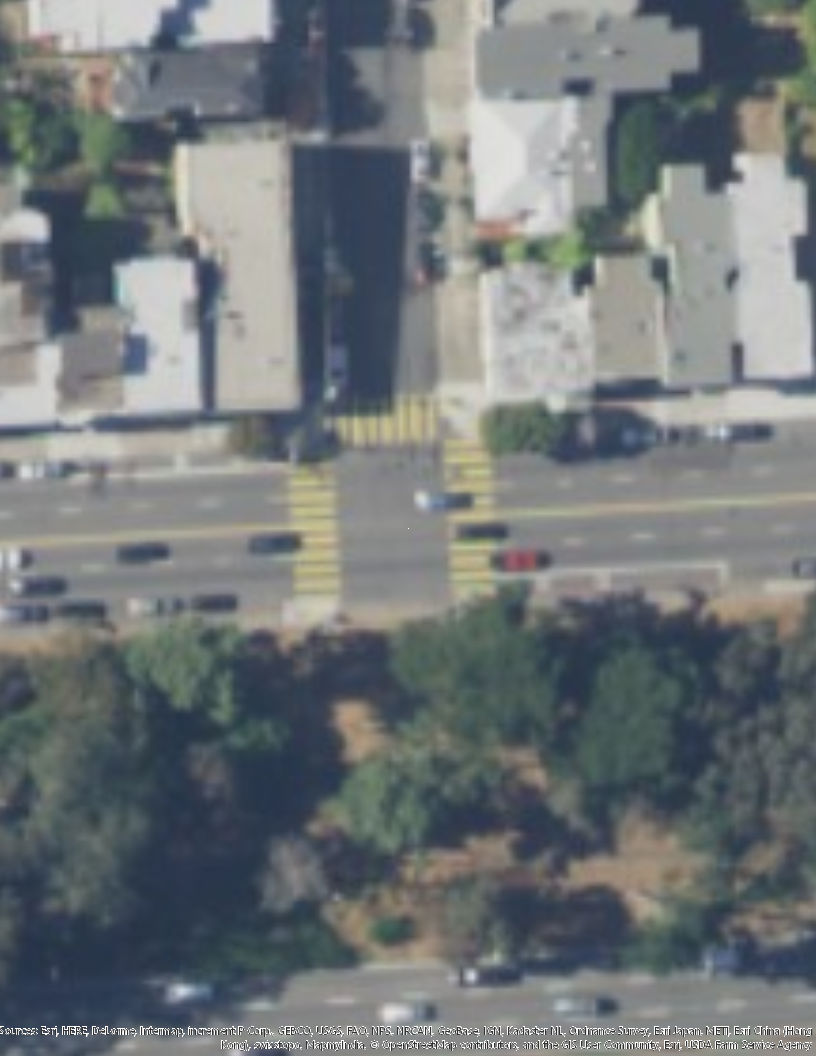zebracross: (442, 444, 499, 591), (290, 456, 343, 601), (327, 392, 440, 446)
